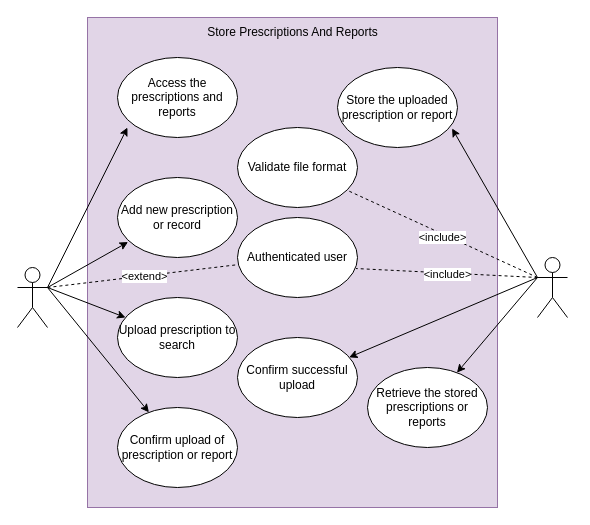
The diagram is 590 pixels wide and 525 high, and some of its shapes have lost their labels. The shapes that lost their labels are listed below. From the top down, each one's centre as x and y in pixels, then its label:
At pixel 32 297: "User".
At pixel 552 287: "System".
